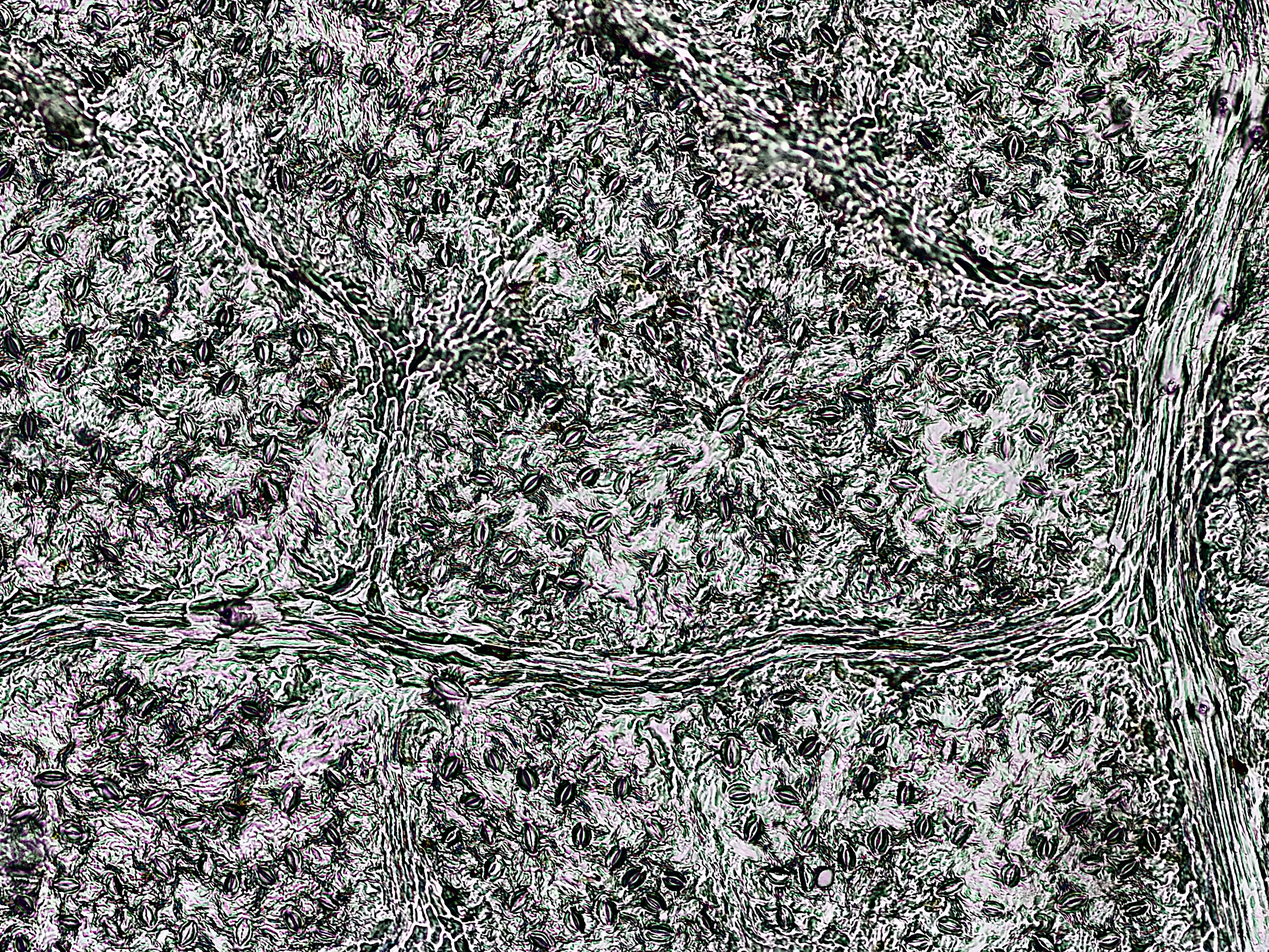stomata: (431, 673, 468, 699), (291, 320, 318, 354), (786, 314, 812, 349), (584, 508, 614, 538), (959, 83, 992, 110), (94, 777, 125, 805), (582, 128, 610, 158), (428, 554, 454, 586), (9, 802, 43, 826), (33, 768, 70, 790), (91, 194, 119, 223), (59, 819, 88, 846), (309, 43, 332, 77), (760, 380, 790, 406), (1062, 808, 1092, 834), (716, 408, 747, 433), (480, 852, 506, 881), (593, 295, 619, 324), (1, 227, 31, 252), (205, 63, 227, 97), (867, 826, 891, 857), (666, 298, 698, 321), (999, 796, 1022, 828), (363, 143, 384, 178), (1062, 223, 1090, 249), (890, 472, 923, 494), (721, 736, 743, 769), (1071, 85, 1109, 104), (471, 518, 495, 548), (546, 520, 570, 550), (1054, 892, 1088, 913), (471, 427, 502, 450), (650, 206, 676, 233), (1048, 778, 1075, 804), (559, 423, 587, 448), (1014, 332, 1049, 352), (497, 160, 521, 189), (1012, 187, 1036, 216), (141, 791, 170, 815), (970, 307, 994, 336), (477, 581, 510, 602), (901, 931, 934, 952), (89, 437, 112, 467), (1021, 476, 1051, 499), (277, 782, 299, 813), (934, 875, 965, 897), (838, 270, 865, 295), (1035, 835, 1060, 862), (597, 896, 618, 928), (566, 160, 589, 189), (913, 129, 942, 152), (745, 299, 768, 328), (424, 123, 446, 153), (696, 544, 718, 574), (259, 45, 280, 76), (44, 131, 70, 156), (47, 361, 73, 386), (518, 470, 543, 496), (1044, 732, 1069, 758), (180, 409, 198, 445), (641, 255, 668, 279), (1115, 857, 1142, 881), (657, 449, 691, 468), (218, 802, 246, 825), (128, 311, 148, 343), (828, 309, 850, 338), (648, 547, 669, 577), (469, 104, 494, 129), (113, 676, 138, 701), (152, 259, 176, 285), (429, 490, 455, 514), (1141, 826, 1164, 853), (1004, 130, 1024, 161), (644, 922, 675, 942), (907, 341, 938, 361), (579, 242, 607, 264), (766, 2, 794, 24), (555, 780, 577, 808), (559, 570, 587, 592), (1078, 855, 1106, 877), (776, 234, 797, 263), (407, 215, 426, 247), (654, 396, 686, 415), (413, 96, 437, 121), (443, 70, 467, 95), (623, 97, 643, 127), (602, 174, 627, 198), (1128, 60, 1153, 84), (1117, 227, 1137, 257), (241, 755, 271, 775), (521, 822, 541, 852), (580, 752, 604, 777), (1102, 821, 1126, 846), (539, 362, 565, 385), (115, 757, 148, 775), (563, 908, 585, 935), (865, 311, 887, 338), (1043, 390, 1070, 412), (889, 433, 916, 455), (71, 274, 92, 302), (217, 370, 238, 398), (273, 167, 294, 195), (75, 700, 103, 721), (137, 902, 158, 930), (621, 869, 649, 890), (996, 432, 1017, 460), (774, 784, 802, 805), (1027, 47, 1056, 67), (1101, 119, 1130, 139), (57, 470, 77, 499), (164, 732, 193, 752), (770, 688, 799, 708), (1070, 699, 1090, 728), (263, 434, 281, 466), (509, 889, 533, 913), (577, 463, 601, 487), (426, 39, 451, 62), (266, 120, 288, 146), (260, 400, 282, 426), (806, 243, 828, 269), (572, 821, 591, 851), (693, 173, 714, 200), (121, 479, 142, 506), (152, 854, 173, 881), (176, 920, 197, 947), (517, 764, 538, 791), (641, 317, 662, 344), (775, 906, 796, 933), (934, 391, 962, 411), (838, 844, 858, 872), (35, 177, 59, 200), (261, 478, 284, 502), (100, 725, 124, 748), (213, 728, 237, 751), (539, 392, 563, 415), (3, 330, 22, 359), (198, 851, 217, 880), (953, 511, 982, 530), (605, 845, 627, 870), (663, 869, 688, 891), (950, 821, 972, 846), (231, 31, 252, 57), (817, 22, 838, 48), (46, 230, 66, 257), (195, 337, 213, 367), (115, 391, 142, 411), (457, 148, 477, 175), (347, 200, 365, 230), (234, 916, 252, 946), (612, 775, 632, 802), (476, 187, 494, 217), (19, 413, 38, 441), (383, 86, 402, 114), (484, 746, 503, 774), (469, 469, 497, 488), (400, 4, 424, 26), (108, 233, 130, 257), (360, 64, 382, 88), (1051, 119, 1073, 143), (297, 401, 319, 425), (96, 540, 120, 562), (818, 483, 840, 507), (971, 549, 995, 571), (401, 175, 422, 200), (1082, 26, 1103, 51), (170, 457, 191, 482), (642, 892, 667, 913), (505, 388, 526, 413), (1054, 449, 1079, 470), (1031, 931, 1056, 952), (231, 491, 249, 520), (694, 252, 712, 281), (941, 545, 959, 574), (769, 38, 795, 58), (1070, 149, 1096, 169), (677, 351, 697, 377), (756, 720, 776, 746), (967, 169, 986, 196), (1068, 181, 1095, 200), (870, 525, 889, 552), (744, 815, 763, 842), (1123, 899, 1150, 918), (936, 916, 963, 935), (216, 419, 233, 449), (51, 876, 81, 893), (842, 384, 872, 401), (512, 80, 534, 103), (255, 864, 277, 887), (499, 547, 522, 569), (1102, 783, 1125, 805), (318, 175, 342, 196), (441, 755, 462, 779), (644, 817, 665, 841), (530, 567, 548, 595), (628, 499, 649, 523), (727, 783, 751, 804), (797, 864, 815, 892), (314, 923, 339, 943), (473, 398, 498, 418), (748, 213, 768, 238), (65, 324, 84, 350), (992, 584, 1018, 603), (363, 27, 392, 44), (812, 77, 830, 104), (255, 338, 273, 365), (614, 468, 632, 495), (816, 405, 843, 423), (780, 524, 798, 551), (1094, 357, 1116, 379), (570, 93, 591, 116), (637, 132, 660, 153), (1094, 747, 1117, 768), (1092, 258, 1112, 282), (284, 909, 304, 933), (527, 930, 551, 950), (460, 790, 484, 810), (967, 33, 995, 50), (223, 870, 240, 898), (891, 402, 919, 419), (1122, 156, 1147, 175), (27, 471, 46, 496), (327, 765, 346, 790), (494, 351, 519, 370), (1001, 863, 1020, 888), (1096, 930, 1121, 949), (937, 362, 963, 380), (958, 429, 976, 455), (1025, 423, 1047, 444), (91, 9, 111, 32), (121, 359, 144, 379), (545, 121, 565, 144), (436, 245, 456, 268), (138, 695, 158, 718), (764, 868, 791, 885), (112, 51, 131, 75), (475, 46, 494, 70), (16, 893, 35, 917), (981, 899, 1005, 918), (0, 155, 15, 185), (433, 189, 451, 214), (1017, 90, 1047, 105), (751, 496, 769, 521), (802, 824, 818, 852), (961, 762, 989, 778), (285, 846, 302, 872), (311, 370, 332, 391), (87, 66, 107, 88), (268, 85, 288, 107), (429, 429, 449, 451), (891, 364, 911, 386), (407, 269, 426, 292), (322, 825, 341, 848), (910, 505, 933, 524), (858, 769, 877, 792), (981, 714, 1004, 733), (168, 355, 186, 379), (674, 133, 698, 151), (897, 779, 913, 806), (989, 6, 1010, 26), (858, 491, 879, 511), (974, 390, 993, 412), (177, 816, 203, 832), (1047, 536, 1073, 552), (577, 35, 595, 58), (58, 912, 82, 929), (479, 820, 496, 844), (972, 352, 996, 369), (1009, 522, 1033, 539), (801, 735, 818, 759), (441, 826, 461, 846), (1049, 354, 1074, 370), (303, 142, 321, 164), (106, 875, 124, 897), (317, 893, 339, 911), (536, 719, 554, 741), (893, 555, 911, 577), (1030, 700, 1053, 717), (241, 700, 262, 718), (918, 813, 932, 840), (418, 518, 440, 535), (673, 97, 696, 113), (718, 495, 732, 521), (650, 72, 674, 87), (154, 30, 175, 47), (263, 0, 280, 21), (15, 931, 32, 952), (697, 911, 713, 933), (464, 0, 487, 15), (552, 214, 570, 233), (0, 6, 12, 33), (680, 488, 694, 511), (872, 728, 888, 748), (104, 919, 119, 940), (179, 504, 191, 530), (227, 0, 240, 23), (198, 0, 216, 16), (336, 868, 349, 890), (148, 0, 169, 13), (217, 307, 231, 326), (0, 278, 9, 307), (52, 938, 70, 952), (0, 370, 12, 390), (366, 0, 383, 14), (309, 844, 322, 862), (511, 0, 527, 11)
